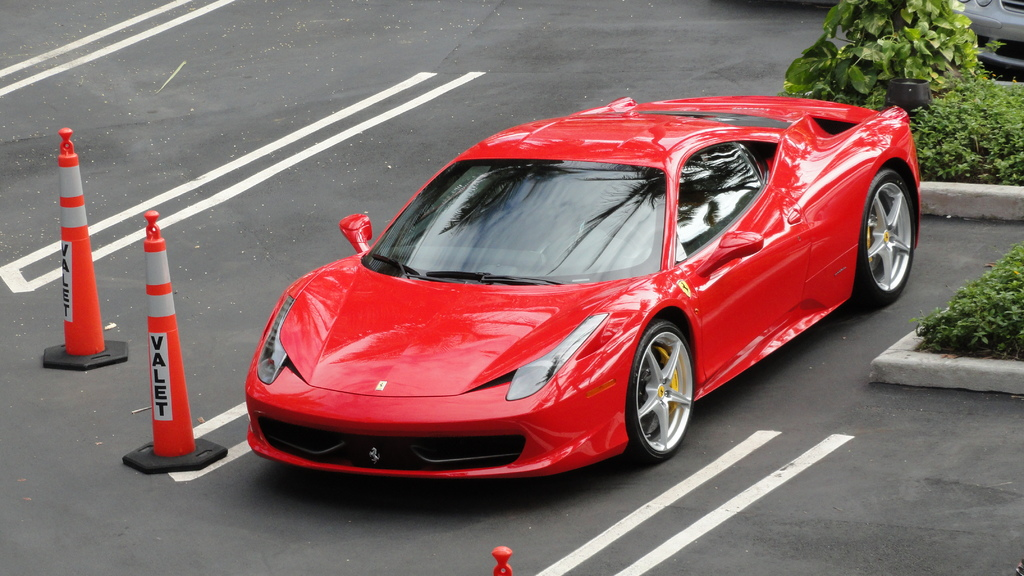Car: (245, 95, 921, 477), (948, 0, 1023, 82)
